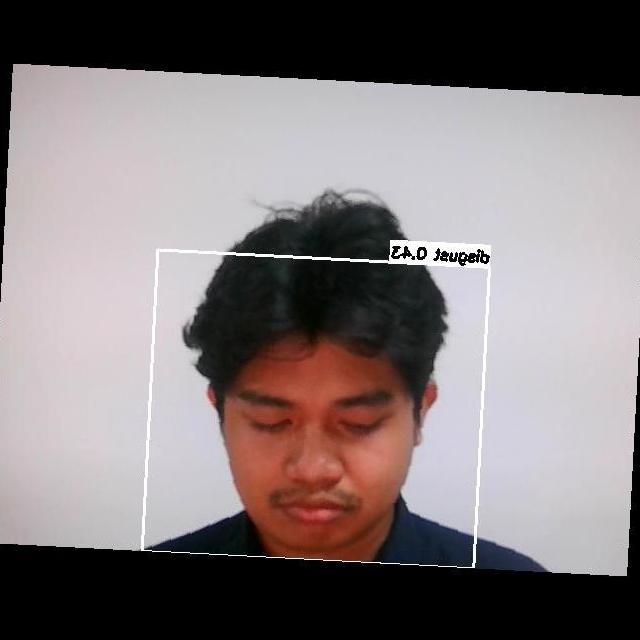Disgust: (217, 336, 409, 535)
